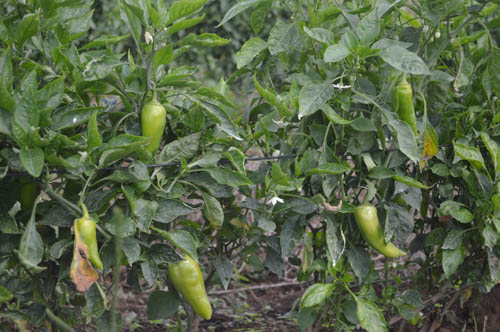ChiliPepper: (171, 260, 215, 324), (356, 207, 404, 256), (398, 83, 423, 136), (141, 107, 169, 153), (79, 220, 104, 265)
